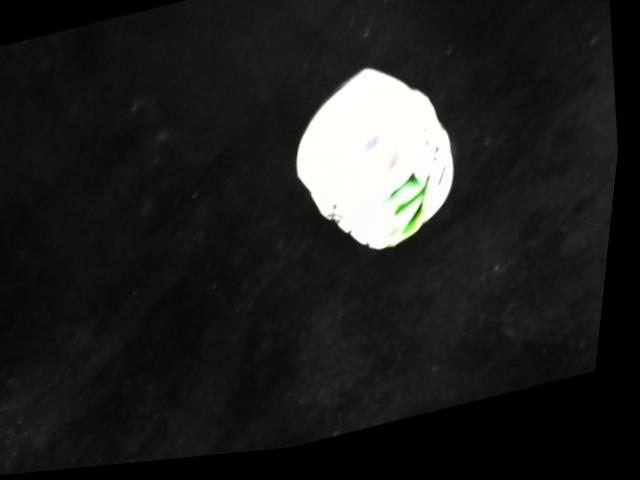can: (299, 70, 469, 257)
